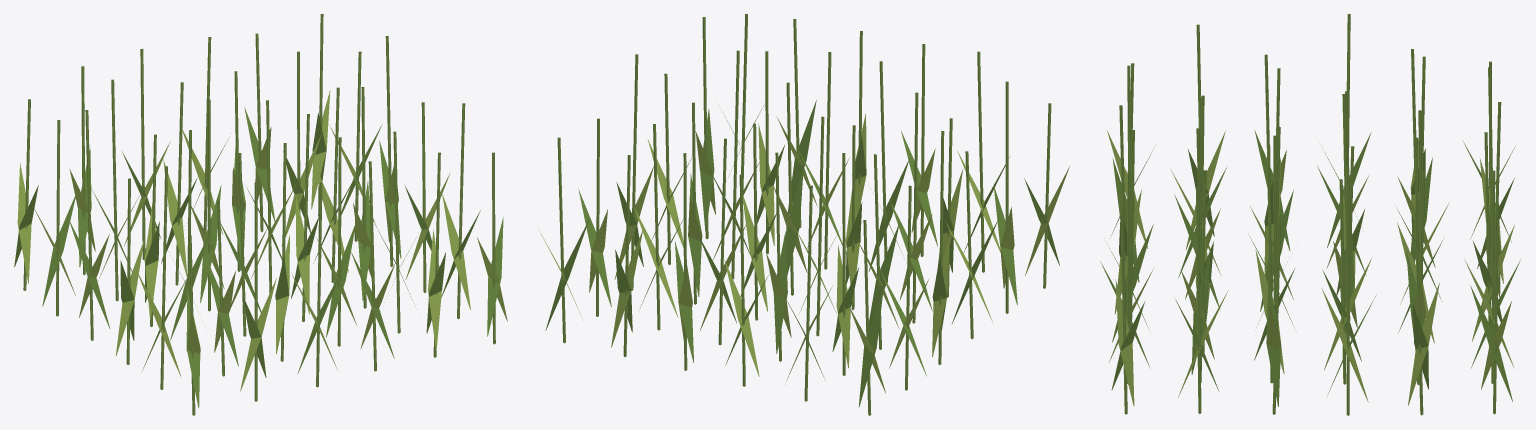
Rendered from crop-cell-wheat-young.gltf.
The picture shows the model from 3 angles, left to right: view 1: azimuth 30°, elevation 25°; view 2: azimuth 150°, elevation 25°; view 3: azimuth 270°, elevation 25°; orthographic projection. The views are drawn at different scales.
Parts seen in each view (by area): view 1: crop-cell-wheat-young; view 2: crop-cell-wheat-young; view 3: crop-cell-wheat-young.
Part boxes in pixels (x1,y1,x2,y2): crop-cell-wheat-young: (14, 14, 507, 415); crop-cell-wheat-young: (538, 14, 1069, 415); crop-cell-wheat-young: (1100, 14, 1520, 415).
Size of the model in its own units: 0.5947 by 0.3788 by 0.5916.
